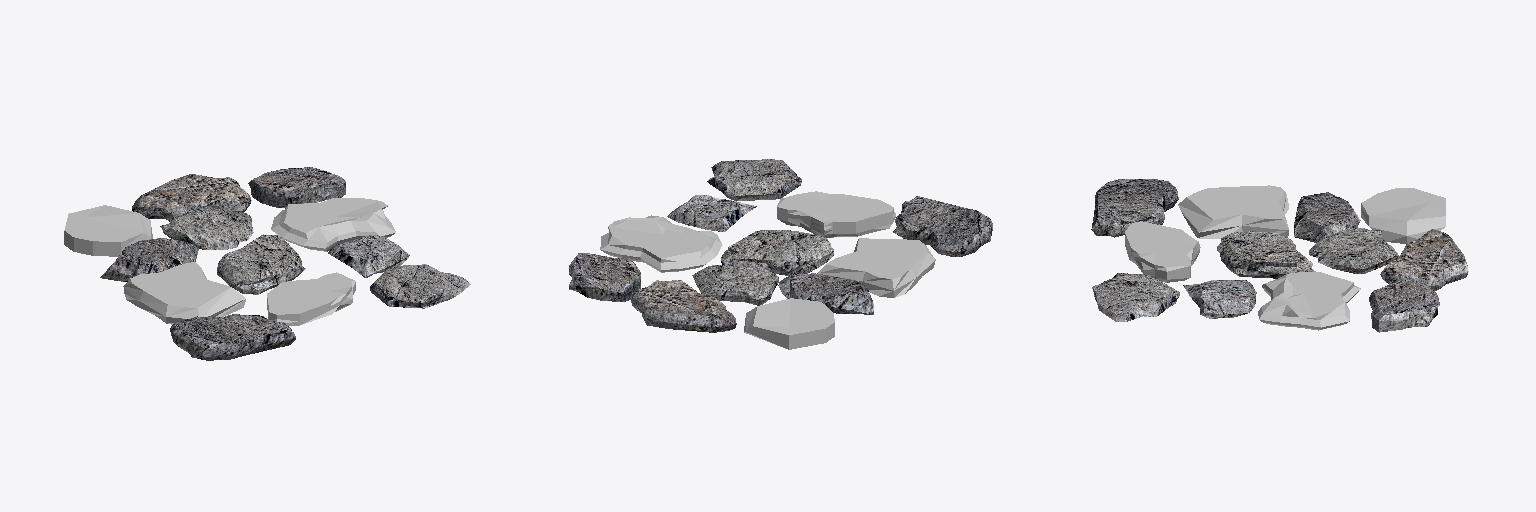
The picture shows the model from 3 angles: view 1: azimuth 30°, elevation 25°; view 2: azimuth 150°, elevation 25°; view 3: azimuth 270°, elevation 25°; orthographic projection.
Visible parts, largest first — view 1: BG1_Cube.008_Cube.010; view 2: BG1_Cube.008_Cube.010; view 3: BG1_Cube.008_Cube.010.
Boxes of the visible parts, x1,y1,x2,y2 form: BG1_Cube.008_Cube.010: [64, 167, 470, 360]; BG1_Cube.008_Cube.010: [569, 159, 992, 349]; BG1_Cube.008_Cube.010: [1091, 179, 1468, 332].
Size of the model in its own units: 1.9 by 0.1356 by 2.13.
Materials: 2 (1 with a texture image).